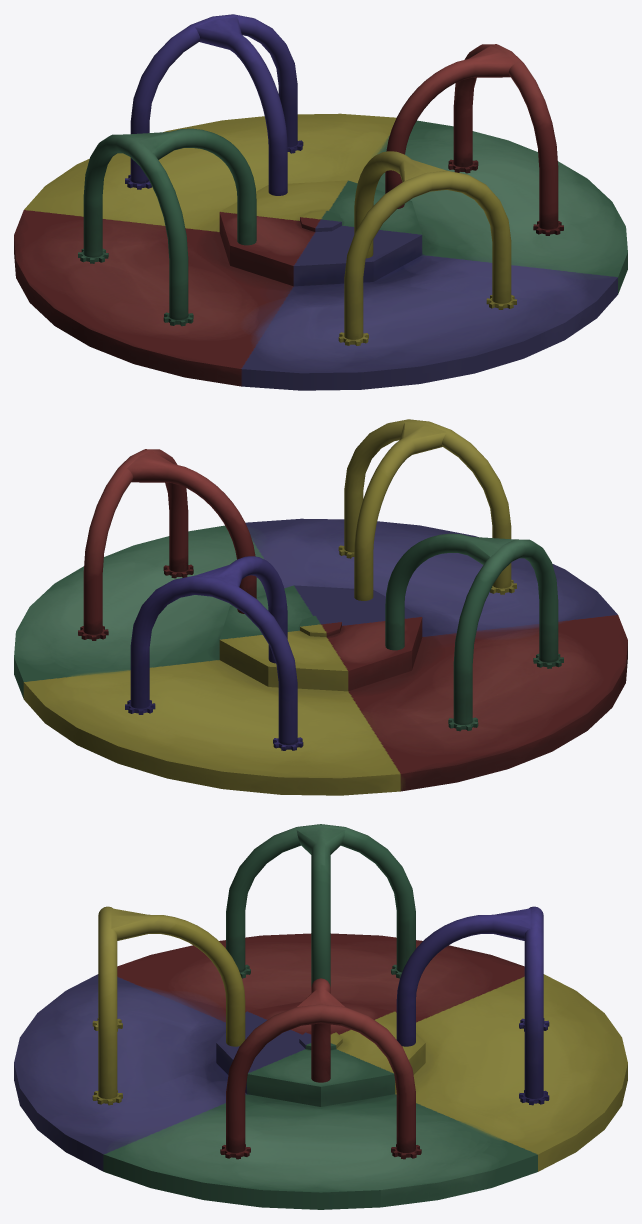
File: roundabout.fbx
3 views of the same model, one above another, from view 1: azimuth 30°, elevation 25°; view 2: azimuth 150°, elevation 25°; view 3: azimuth 270°, elevation 25° (orthographic).
Parts seen in each view (by area): view 1: Circle.002; view 2: Circle.002; view 3: Circle.002.
Boxes of the visible parts, left/top/right/bottom form: Circle.002: left=14, top=14, right=627, bottom=390; Circle.002: left=14, top=419, right=627, bottom=795; Circle.002: left=14, top=824, right=627, bottom=1209.
Size of the model in its own units: 1440 by 457 by 1440.
